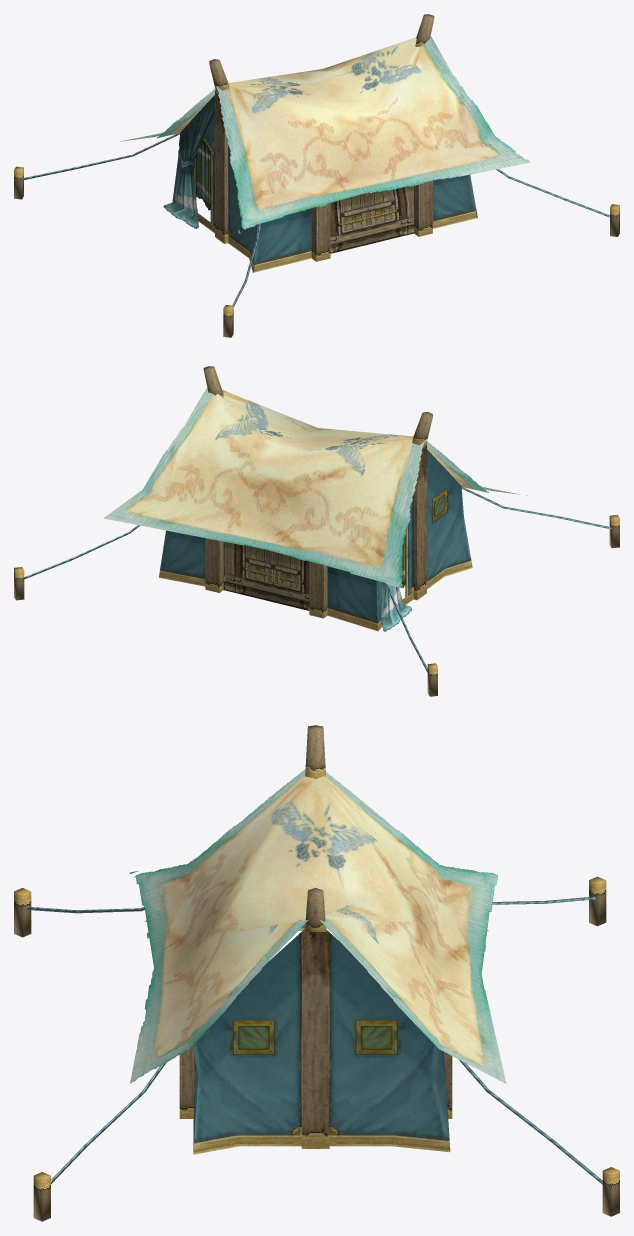
The picture shows the model from 3 angles, top to bottom: view 1: azimuth 30°, elevation 25°; view 2: azimuth 150°, elevation 25°; view 3: azimuth 270°, elevation 25°; orthographic projection. The views are drawn at different scales.
Parts seen in each view (by area): view 1: geom_node_0; view 2: geom_node_0; view 3: geom_node_0.
Boxes of the visible parts, bbox=[...] form: geom_node_0: bbox=[14, 14, 619, 337]; geom_node_0: bbox=[14, 366, 619, 696]; geom_node_0: bbox=[14, 725, 619, 1221].
Size of the model in its own units: 11.45 by 4.74 by 9.69.
Materials: 2 (2 with a texture image).
